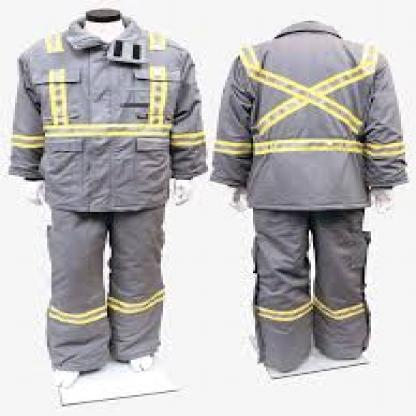vest: (14, 22, 205, 344), (230, 27, 404, 339)
